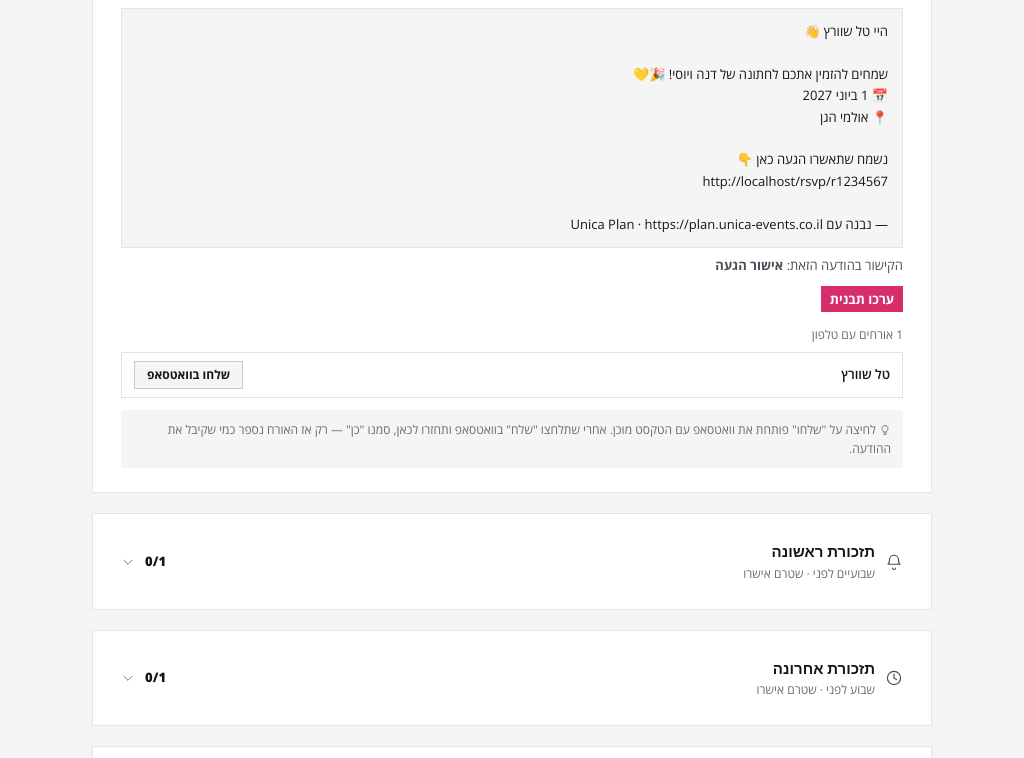
Test: opened in WhatsApp is not sent › coming back to the tab puts focus on the question
(page scrolled)
Click the button "שלחו בוואטסאפ". click: point(189, 375)
box: [134,361,243,389]
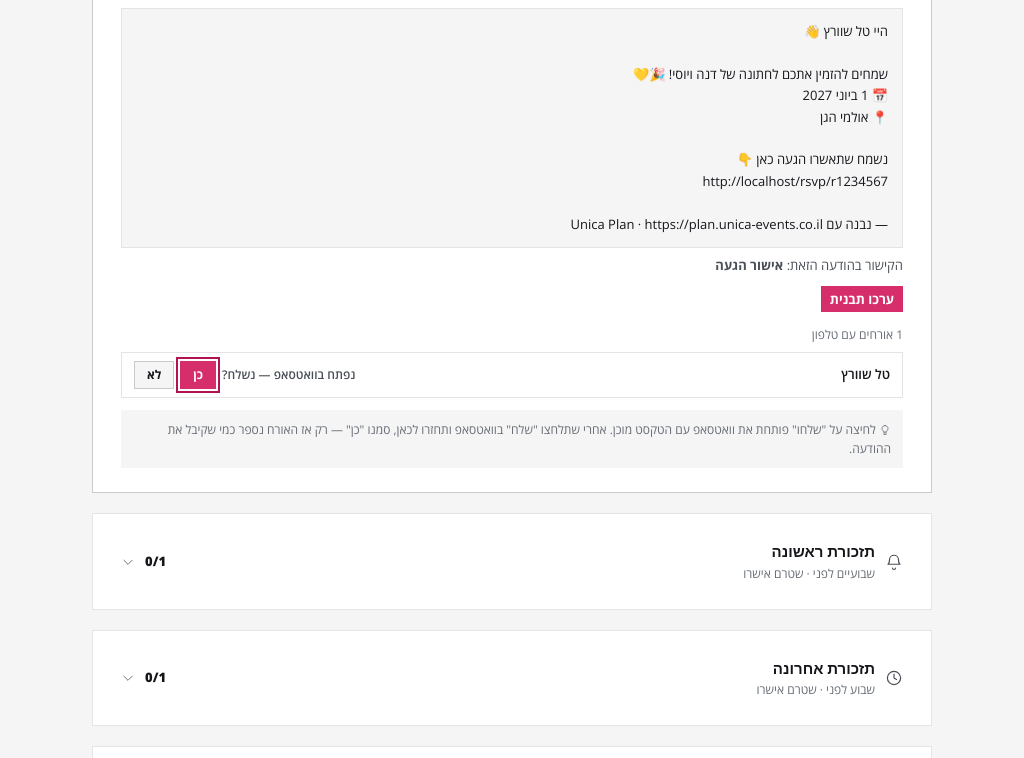
Check: the text "נפתח בוואטסאפ — נשלח?" is shown, box [222,366,355,384]
